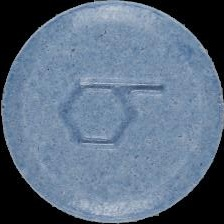21695-769: (0, 0, 224, 224)
